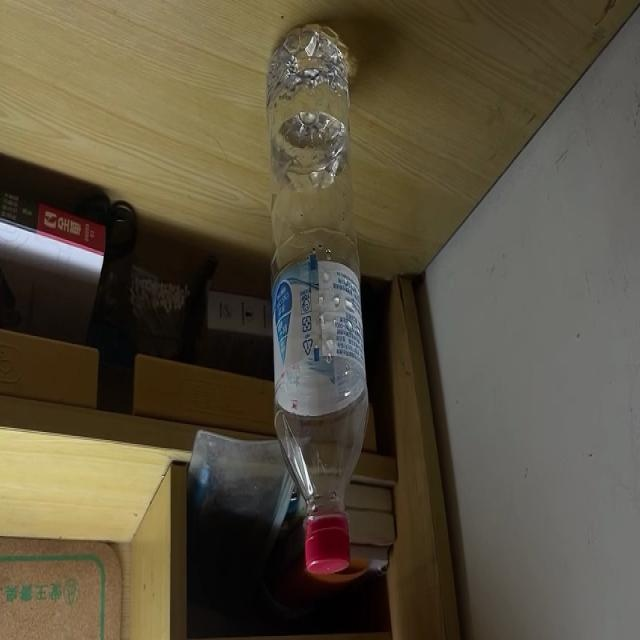Water: (264, 24, 368, 579)
